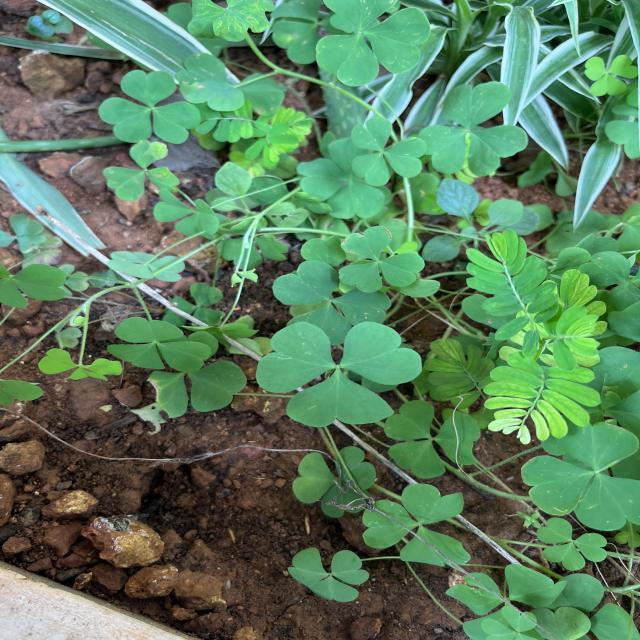Oxalis corniculata: (255, 320, 423, 428), (519, 420, 640, 532), (418, 80, 530, 178), (314, 0, 432, 88), (98, 68, 202, 144), (338, 224, 426, 294), (106, 316, 212, 374), (350, 116, 428, 187), (102, 138, 182, 203), (287, 546, 371, 603), (536, 518, 609, 572), (584, 54, 638, 97)
